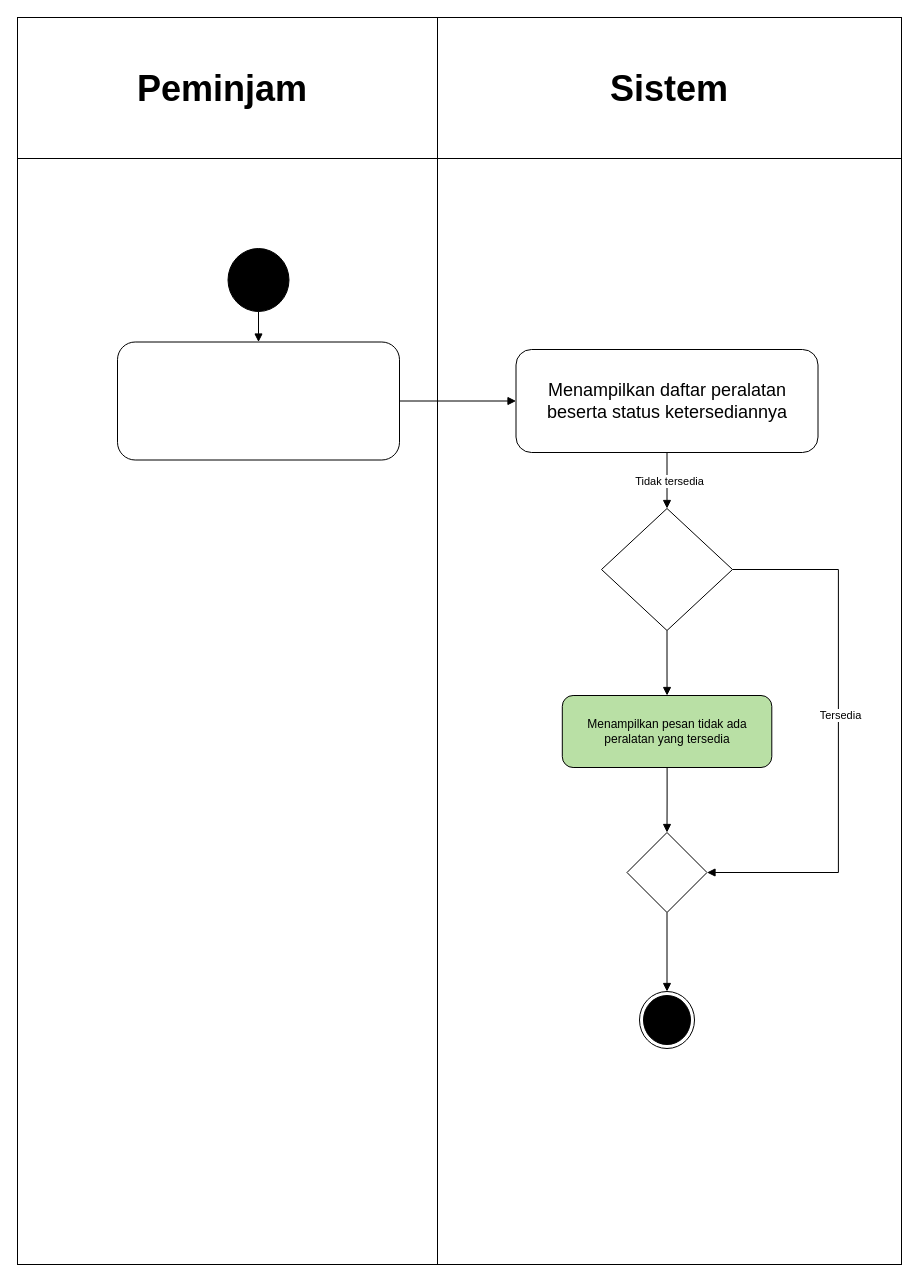
The diagram is 919 pixels wide and 1282 high, and some of its shapes have lost their labels. Here are the shapes that lost their labels. From the top down, the box of each, then its label:
(116, 341, 400, 460): Membuka fungsi lihat ketersidiaan Peralatan
(600, 508, 732, 630): Peralatan Tersedia?
